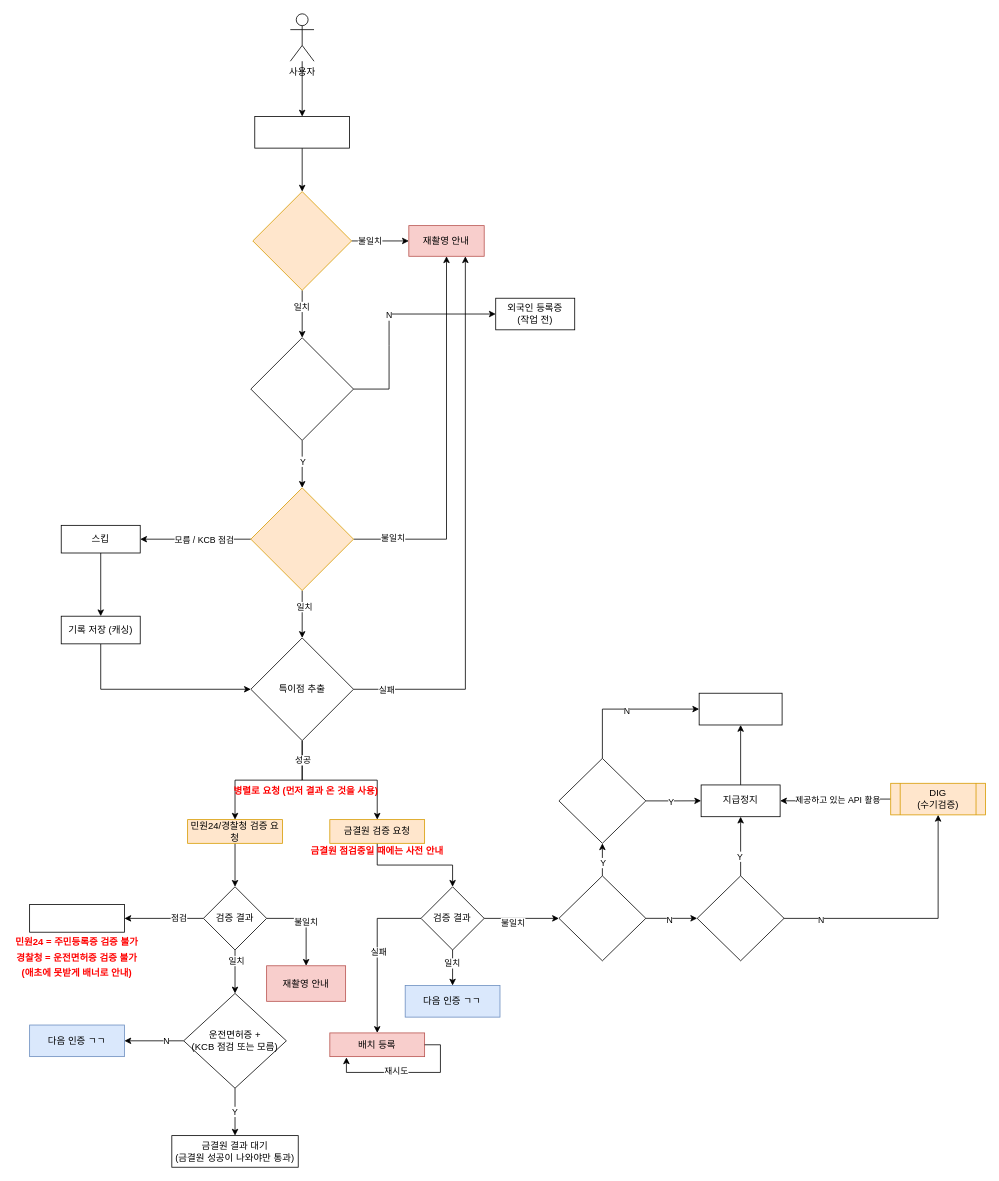
Some shapes in this 999 by 1181 pixel diagram are drawn without their labels. Here are the shapes that lost their labels. From the top down, the centre of each, then its label:
At (x=302, y=132): "신분증 OCR 촬영".
At (x=302, y=240): "데이터 형식 및 토스코어 정보와 비교하여 검증 (생년월일, 이름)".
At (x=302, y=388): "주민등록증 운전면허증".
At (x=302, y=539): "KCB 검증".
At (x=740, y=708): "재촬영 PUSH 신분증 재촬영 배너".
At (x=602, y=800): "계좌개설 완료 상태".
At (x=76, y=918): "점검 안내 (다른 신분증 요청)".
At (x=602, y=918): "첫 계좌개설 인증 여부".
At (x=740, y=918): "불일치 결과가 사망자, 실종자, 분실 등...".
